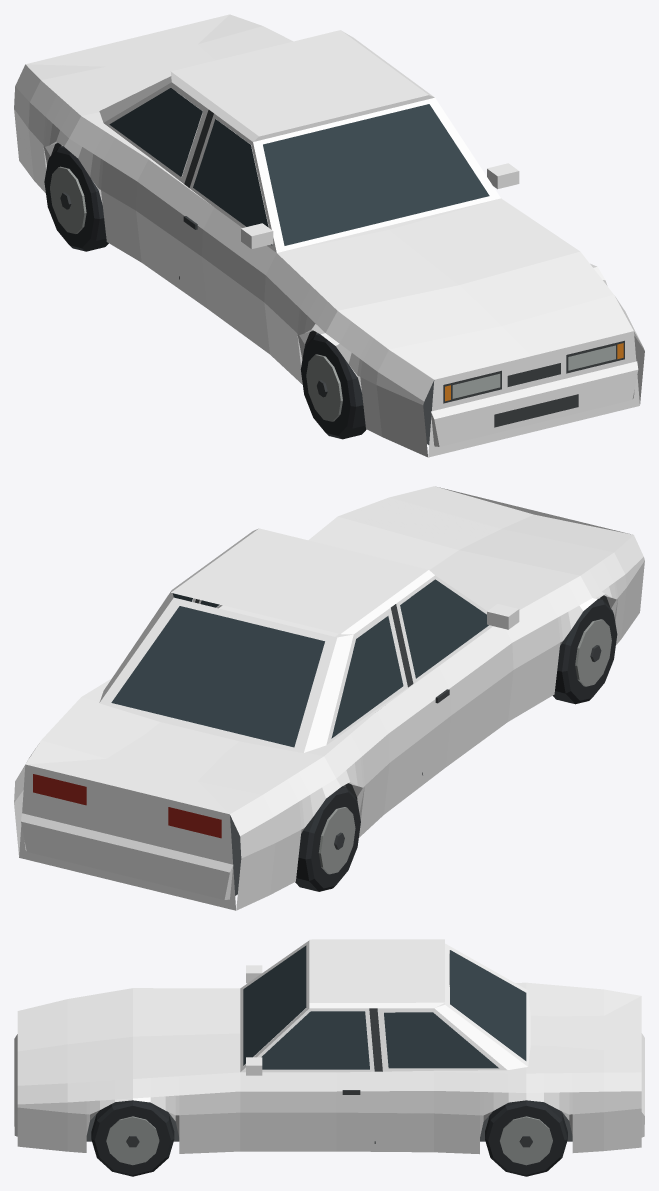
Rendered from varenna_fiume.glb.
3 views of the same model, one above another, from view 1: azimuth 30°, elevation 25°; view 2: azimuth 150°, elevation 25°; view 3: azimuth 270°, elevation 25° (orthographic). The views are drawn at different scales.
Parts seen in each view (by area): view 1: varenna_fiume; view 2: varenna_fiume; view 3: varenna_fiume.
Boxes of the visible parts, left/top/right/bottom form: varenna_fiume: left=14, top=14, right=644, bottom=457; varenna_fiume: left=14, top=486, right=644, bottom=910; varenna_fiume: left=14, top=939, right=644, bottom=1176.
Size of the model in its own units: 1.79 by 1.26 by 4.6.
8 materials, 1 textured.
